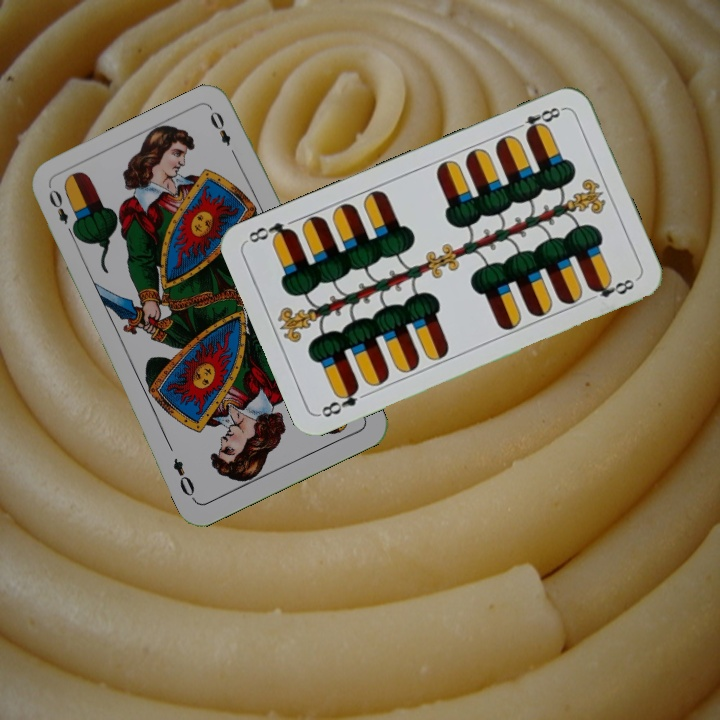E8: (510, 103, 567, 138), (316, 381, 362, 420)
EO: (44, 185, 80, 240)
